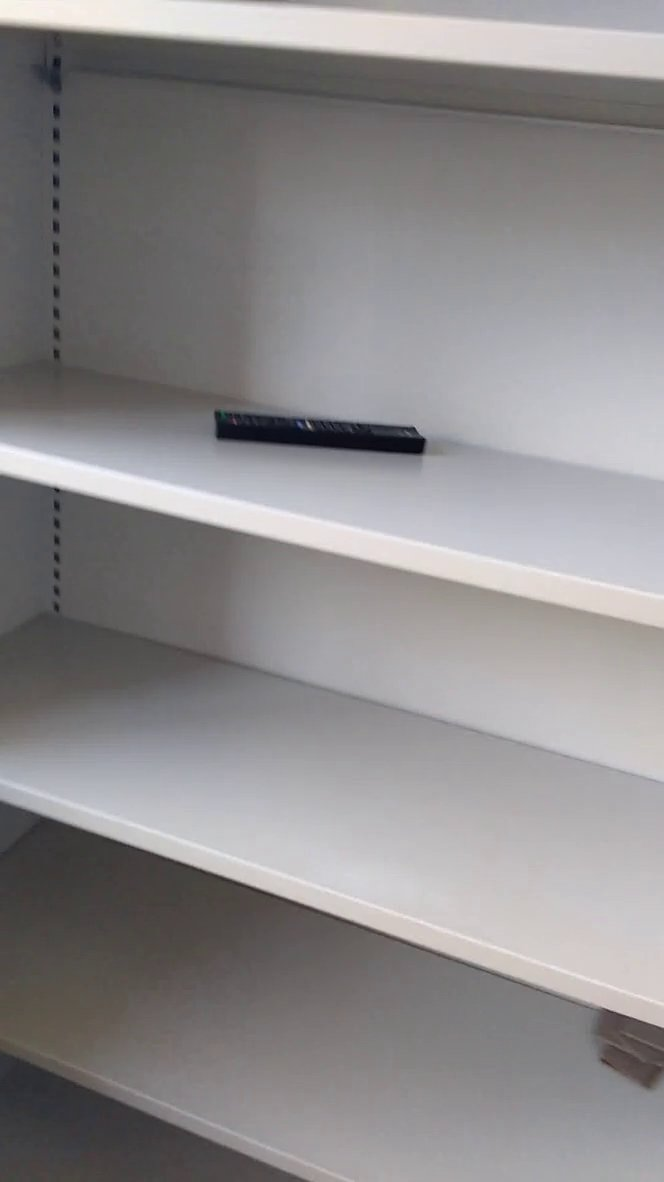remote: (202, 395, 438, 469)
